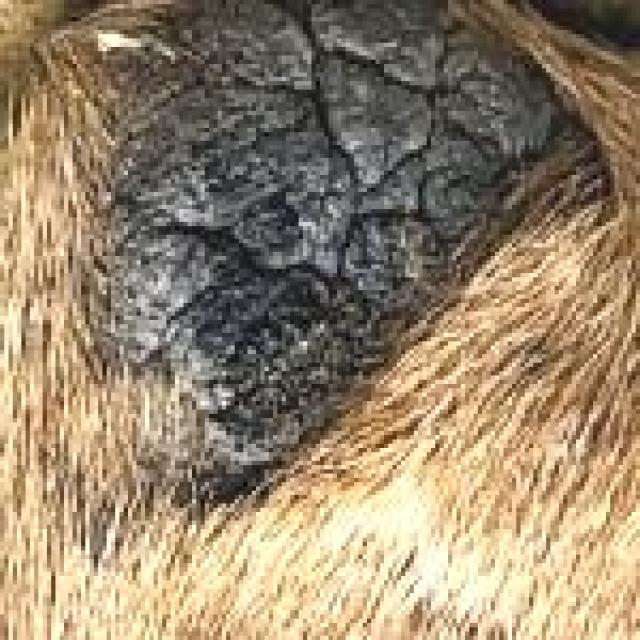fungal infection: (117, 20, 298, 473), (306, 4, 550, 169), (305, 183, 461, 310), (302, 315, 400, 394)
